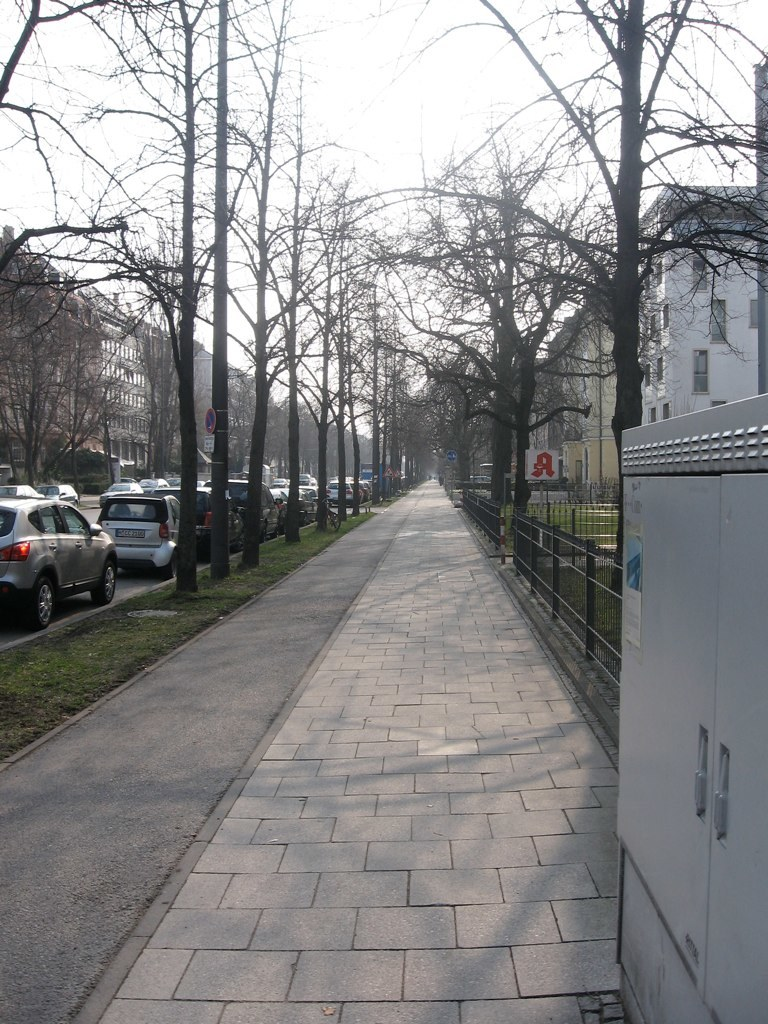Car: (0, 481, 117, 622), (103, 497, 180, 572), (212, 478, 282, 542), (148, 483, 214, 547)
